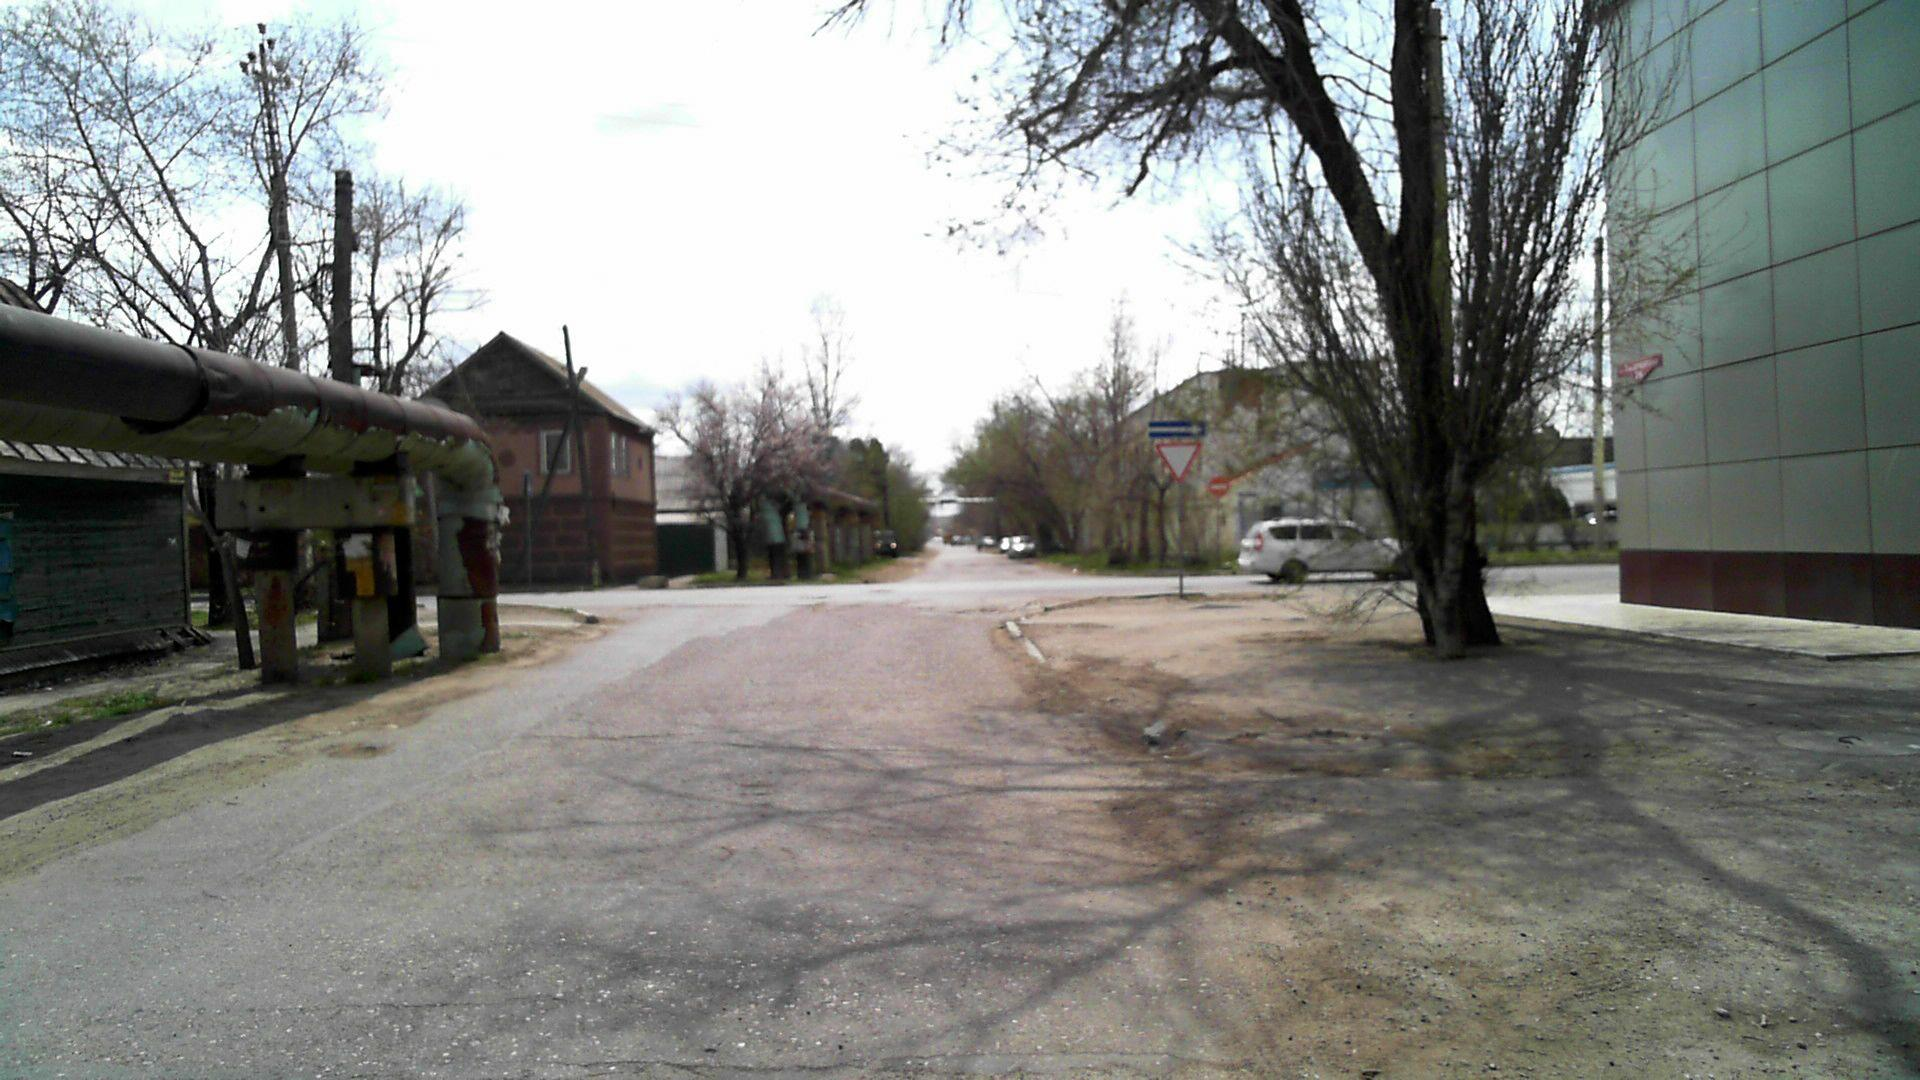2_4: (1154, 442, 1201, 480)
3_1: (1207, 473, 1232, 500)
5_7_1: (1149, 421, 1204, 439)
